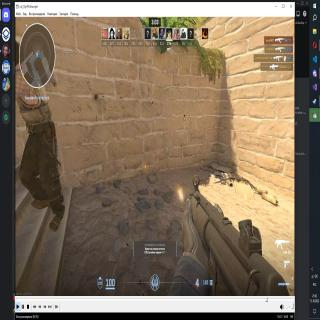T-Body: (18, 86, 65, 234)
